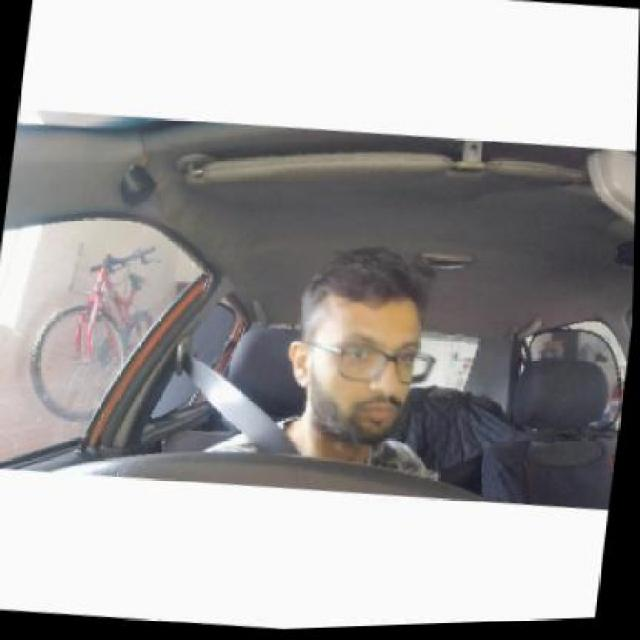person: (294, 259, 424, 445)
